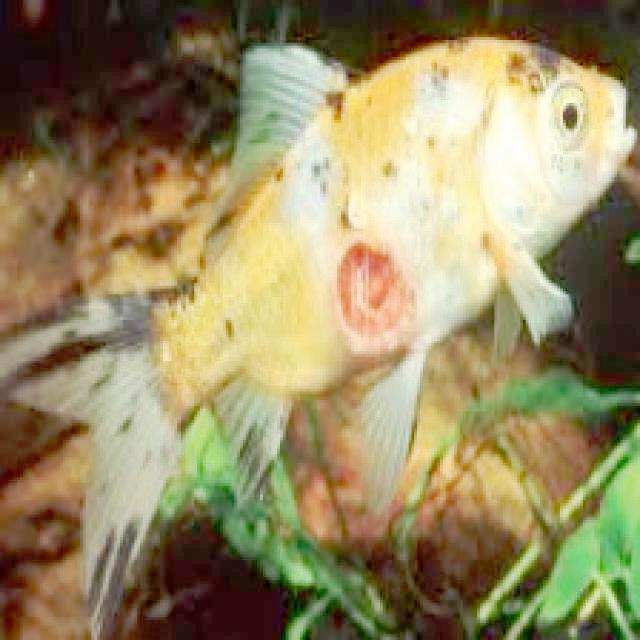Edwardsiella Ictaluri -Bacterial Red Disease-: (0, 38, 636, 639)
